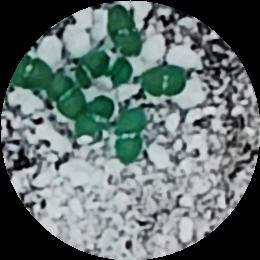Basil: (107, 5, 140, 56), (73, 96, 108, 140), (141, 66, 184, 97), (11, 55, 48, 91), (46, 74, 81, 112), (119, 109, 144, 162), (75, 51, 109, 84)
